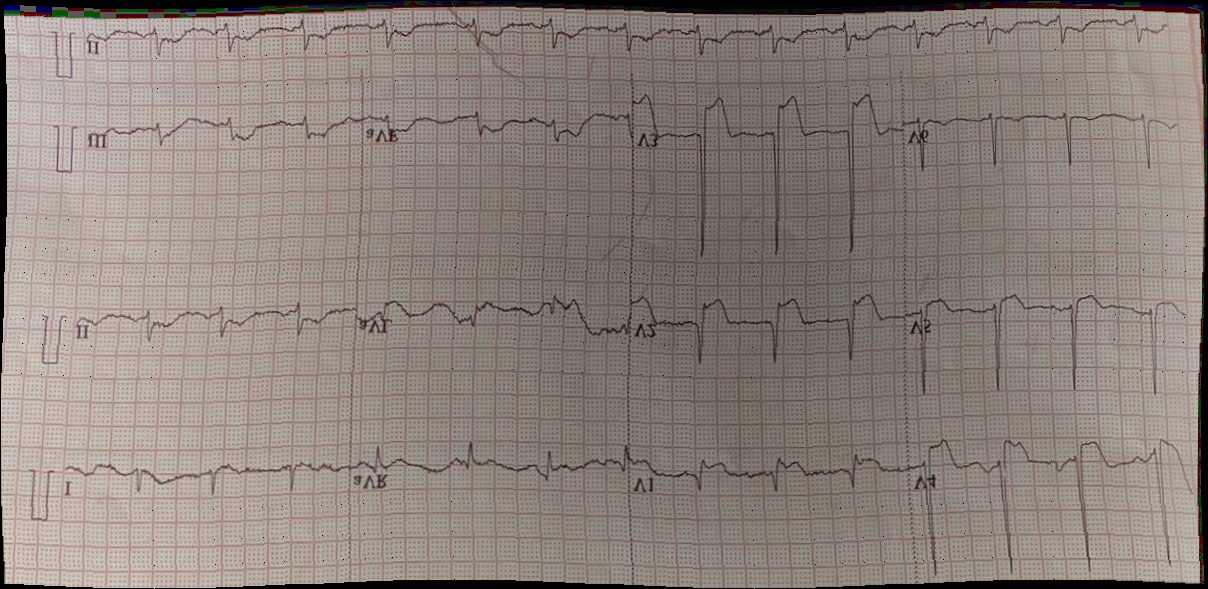Lead_I: (53, 425, 353, 512)
Lead_II: (60, 270, 356, 366)
Lead_III: (74, 94, 358, 166)
Lead_II_ext: (69, 0, 1175, 81)
Lead_V1: (631, 424, 901, 521)
Lead_V2: (629, 266, 910, 378)
Lead_V3: (628, 72, 905, 269)
Lead_V4: (909, 408, 1206, 589)
Lead_V5: (909, 266, 1198, 422)
Lead_V6: (900, 88, 1185, 194)
Lead_aVF: (354, 84, 631, 166)
Lead_aVL: (355, 280, 628, 365)
Lead_aVR: (352, 429, 633, 507)
